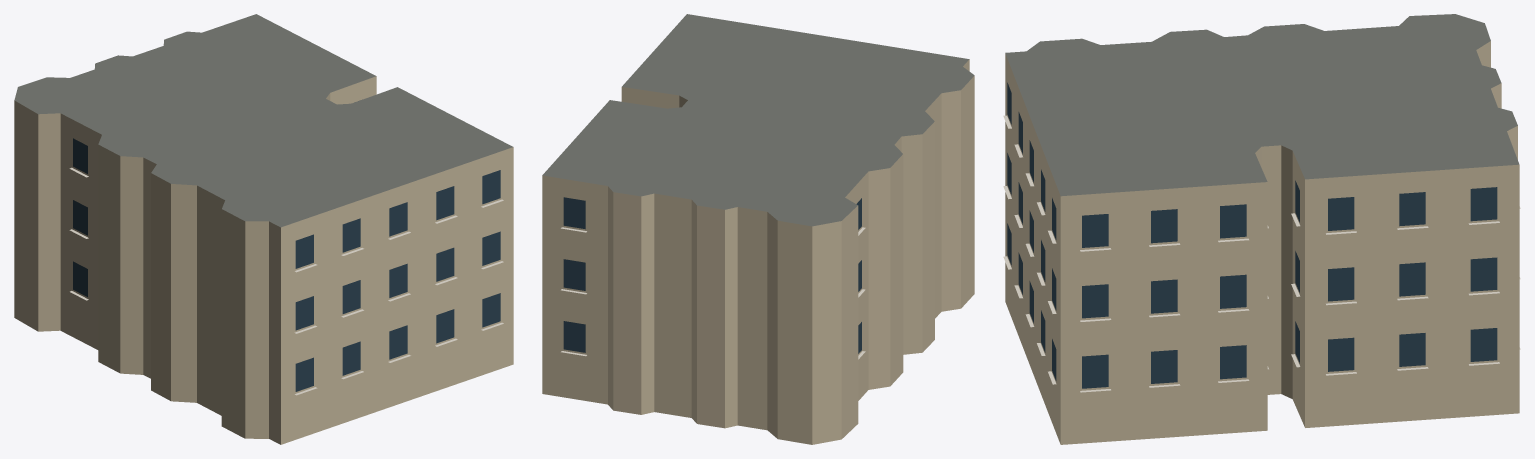
3 renders of one model, left to right at view 1: azimuth 30°, elevation 25°; view 2: azimuth 150°, elevation 25°; view 3: azimuth 270°, elevation 25°, orthographic. The views are drawn at different scales.
Parts seen in each view (by area): view 1: Footprint 0, Inferred window bays, Window sills; view 2: Footprint 0, Inferred window bays; view 3: Footprint 0, Inferred window bays, Window sills.
Boxes of the visible parts, bbox=[...] form: Footprint 0: bbox=[14, 14, 513, 444]; Inferred window bays: bbox=[73, 138, 500, 391]; Window sills: bbox=[69, 167, 503, 395]; Footprint 0: bbox=[542, 14, 974, 444]; Inferred window bays: bbox=[563, 197, 861, 353]; Footprint 0: bbox=[1005, 14, 1519, 444]; Inferred window bays: bbox=[1007, 82, 1497, 388]; Window sills: bbox=[1003, 115, 1520, 392].
Bounding box in the file's own units: 20 × 12.67 × 23.9.
